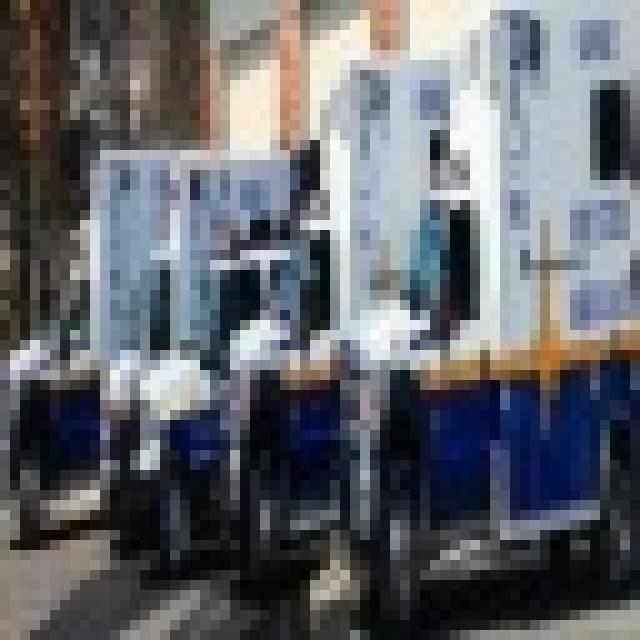Ambulance: (446, 9, 640, 592), (308, 49, 431, 580)
